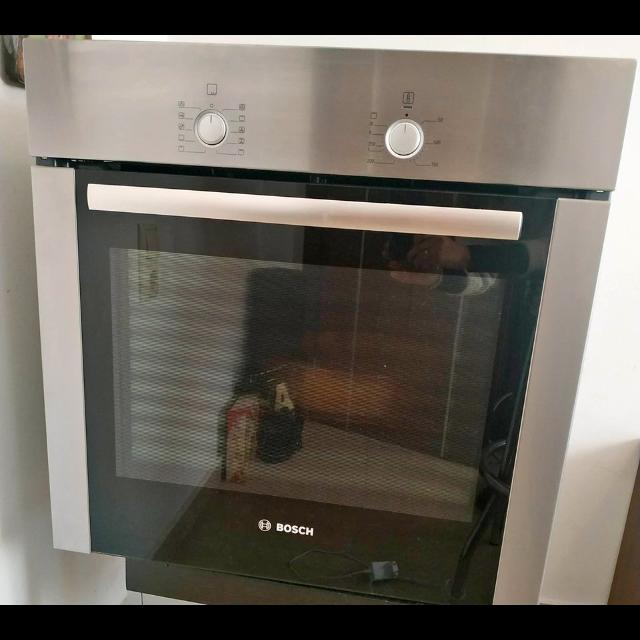Oven: (21, 36, 613, 604)
